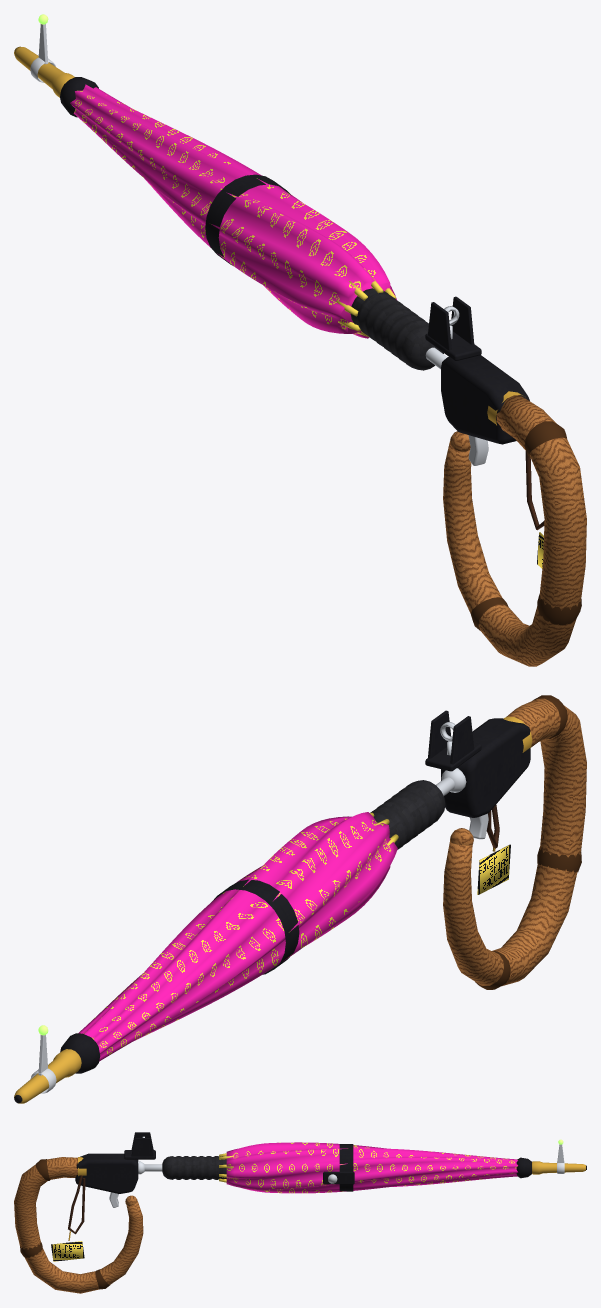
The model's file is w_shotgun_umbrella.glb.
3 renders of one model, top to bottom at view 1: azimuth 30°, elevation 25°; view 2: azimuth 150°, elevation 25°; view 3: azimuth 270°, elevation 25°, orthographic. The views are drawn at different scales.
Visible parts, largest first — view 1: brolly_wzB, brolly_wzA, pump_wzB; view 2: brolly_wzB, brolly_wzA, pump_wzB, brolly_wzN; view 3: brolly_wzB, brolly_wzA, pump_wzB, brolly_wzN.
Boxes of the visible parts, x1=… form: brolly_wzB: x1=14, y1=24, x2=522, y2=465; brolly_wzA: x1=425, y1=296, x2=586, y2=666; pump_wzB: x1=350, y1=288, x2=443, y2=370; brolly_wzB: x1=14, y1=716, x2=532, y2=1103; brolly_wzA: x1=425, y1=695, x2=586, y2=989; pump_wzB: x1=370, y1=780, x2=445, y2=849; brolly_wzN: x1=38, y1=844, x2=510, y2=1035; brolly_wzB: x1=68, y1=1136, x2=586, y2=1240; brolly_wzA: x1=14, y1=1132, x2=155, y2=1293; pump_wzB: x1=162, y1=1156, x2=226, y2=1179; brolly_wzN: x1=51, y1=1139, x2=563, y2=1261.
Bounding box in the file's own units: 0.0832 × 0.2757 × 0.9089.
11 materials, 6 textured.
